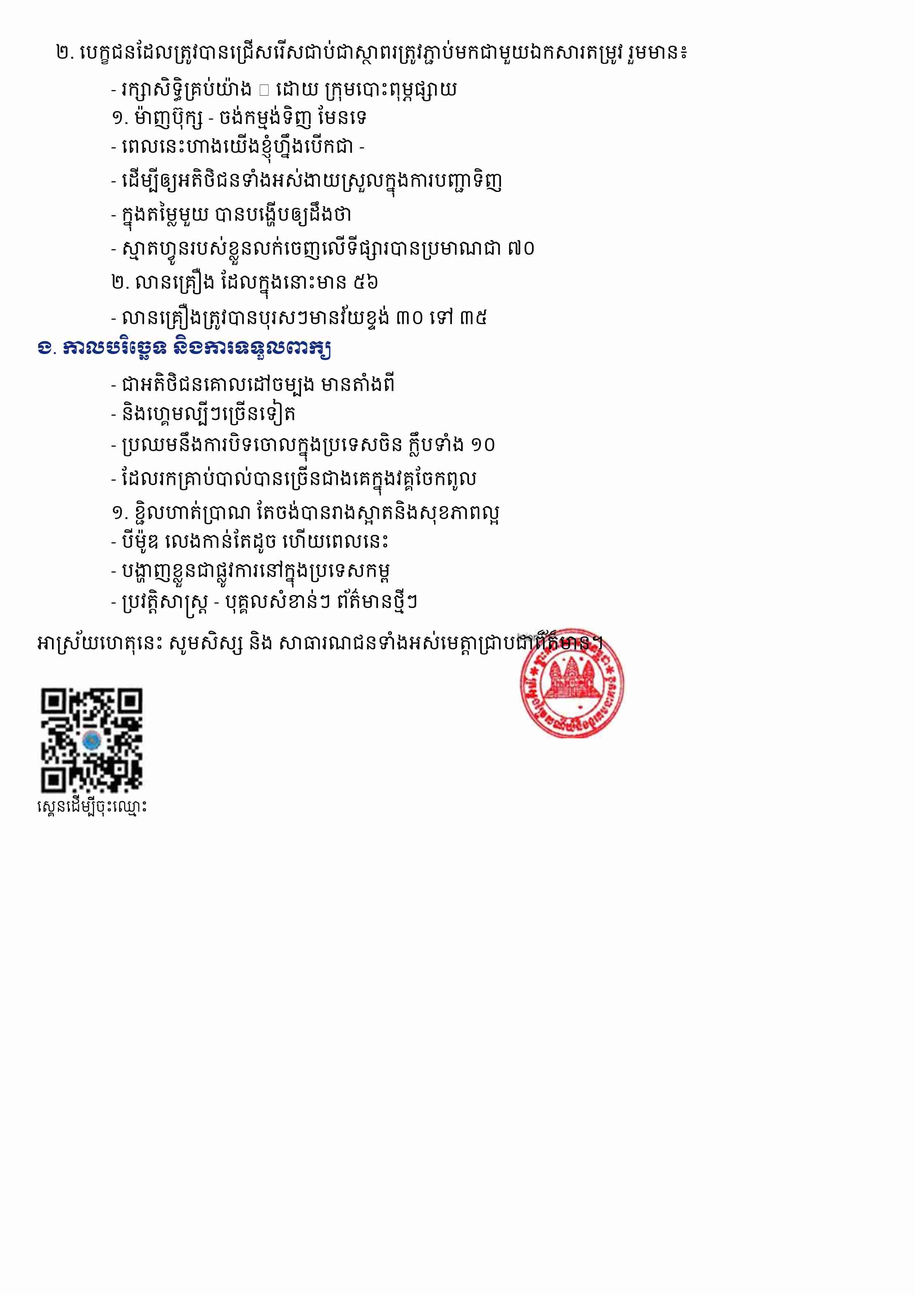decorative: (37, 683, 148, 794), (517, 628, 627, 738)
text: (55, 39, 689, 65), (37, 630, 604, 655), (111, 235, 536, 265), (111, 167, 503, 197), (111, 432, 497, 462), (111, 466, 477, 496), (111, 303, 488, 330), (111, 500, 500, 525), (111, 588, 418, 619), (111, 77, 458, 102), (111, 268, 379, 299), (111, 133, 365, 164), (111, 560, 391, 588), (37, 334, 331, 360), (111, 371, 396, 397), (111, 528, 390, 554), (111, 201, 352, 231), (111, 105, 368, 130), (111, 399, 296, 426), (37, 794, 148, 817)
